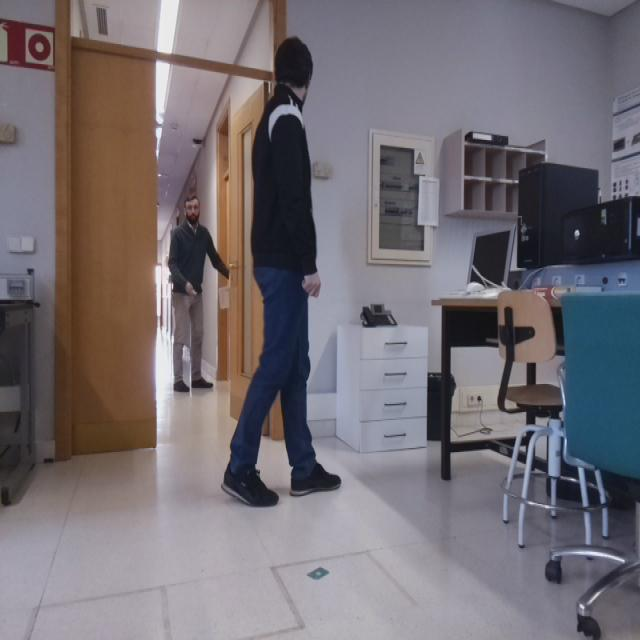person: (219, 35, 345, 507), (166, 194, 226, 402)
